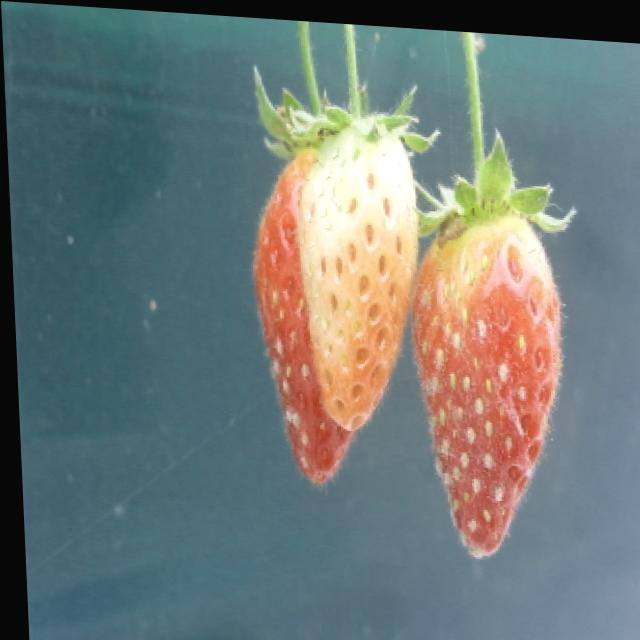Powdery Mildew Fruit: (248, 122, 415, 481), (404, 202, 560, 553)
